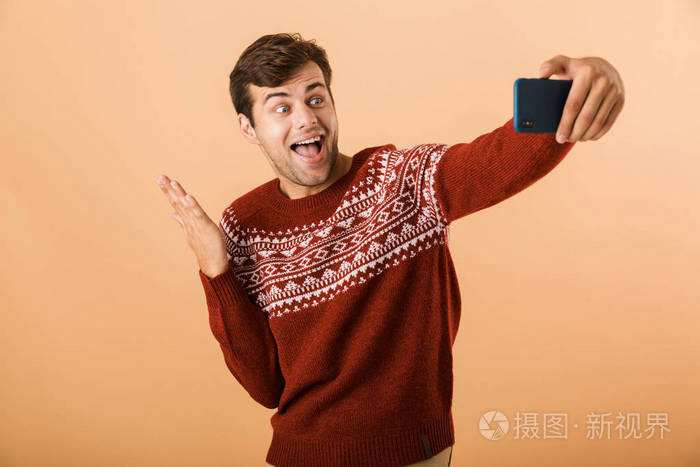no-phone: (152, 172, 229, 272)
taking photos: (506, 51, 628, 147)
